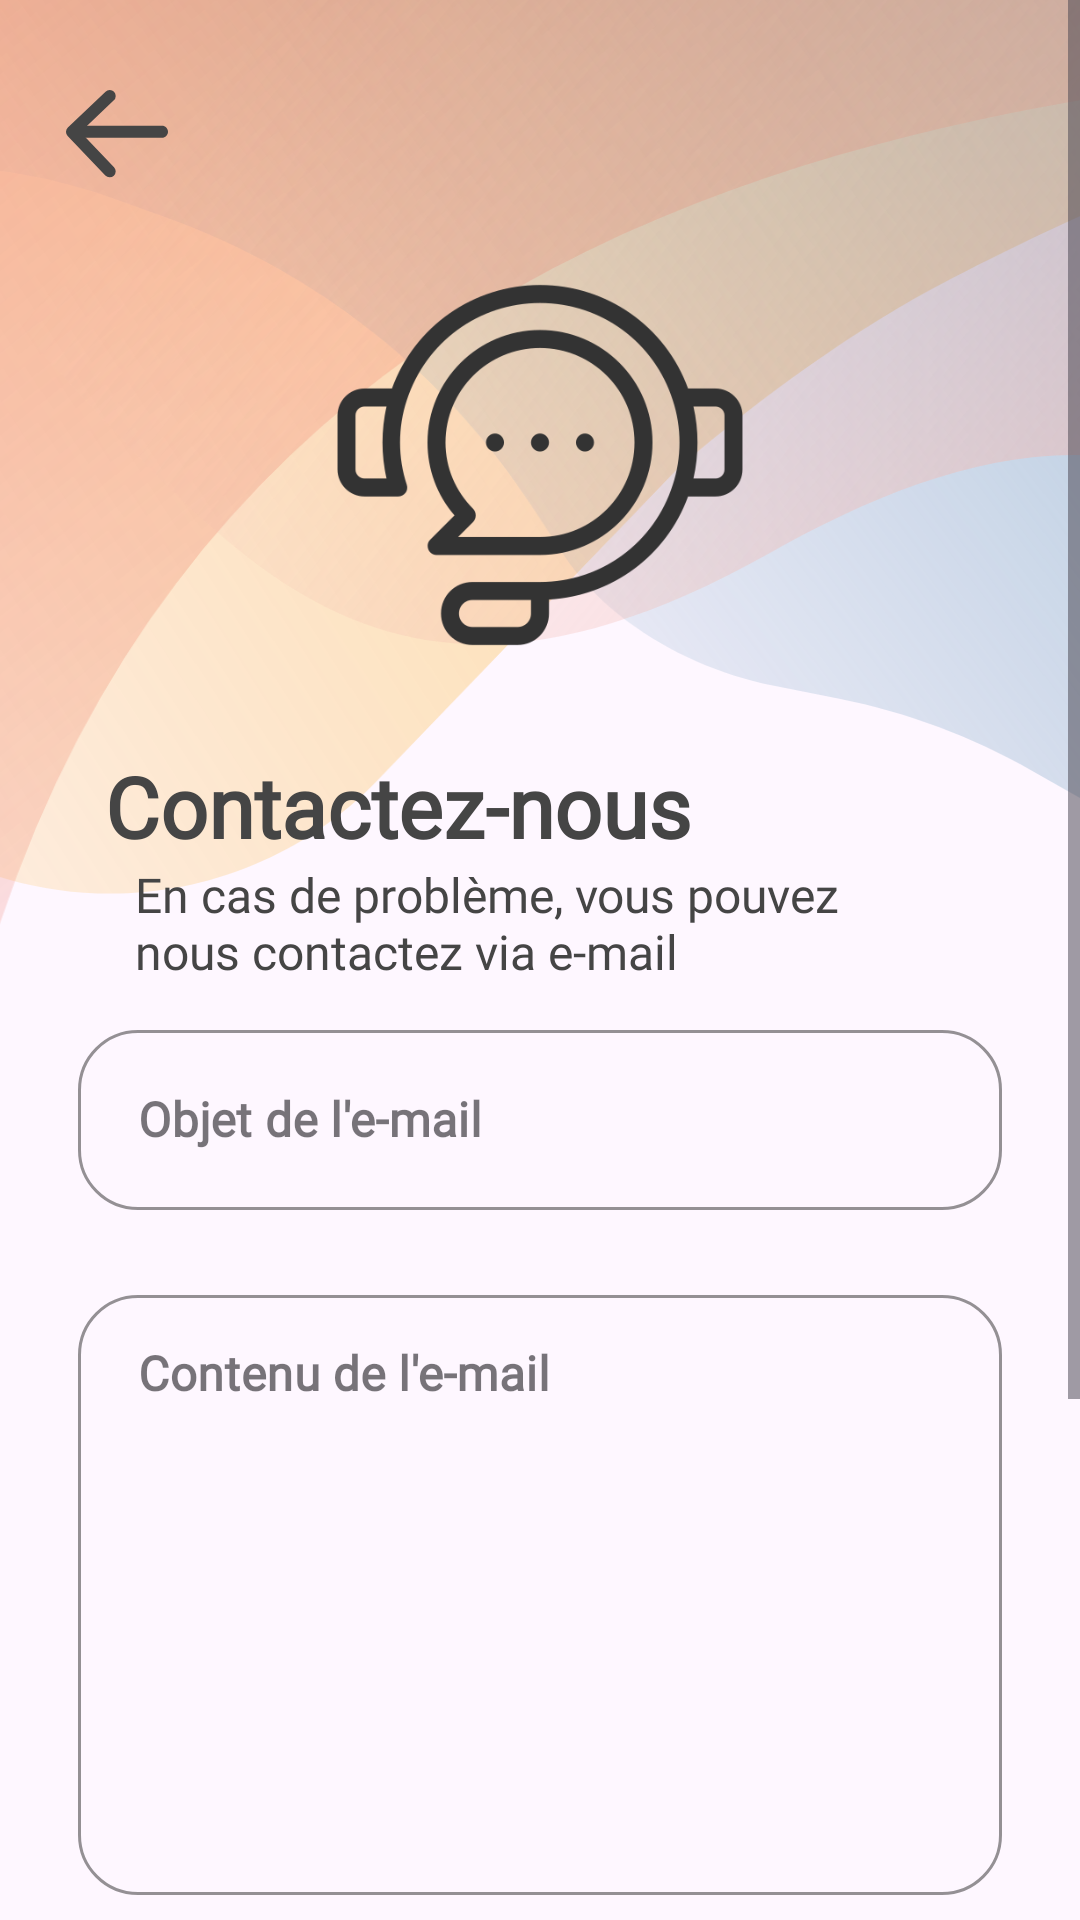

Point at icon controls on the screen. Image size 1080 x 1920, points as (x=x, y=y).
back: (x=117, y=134)
